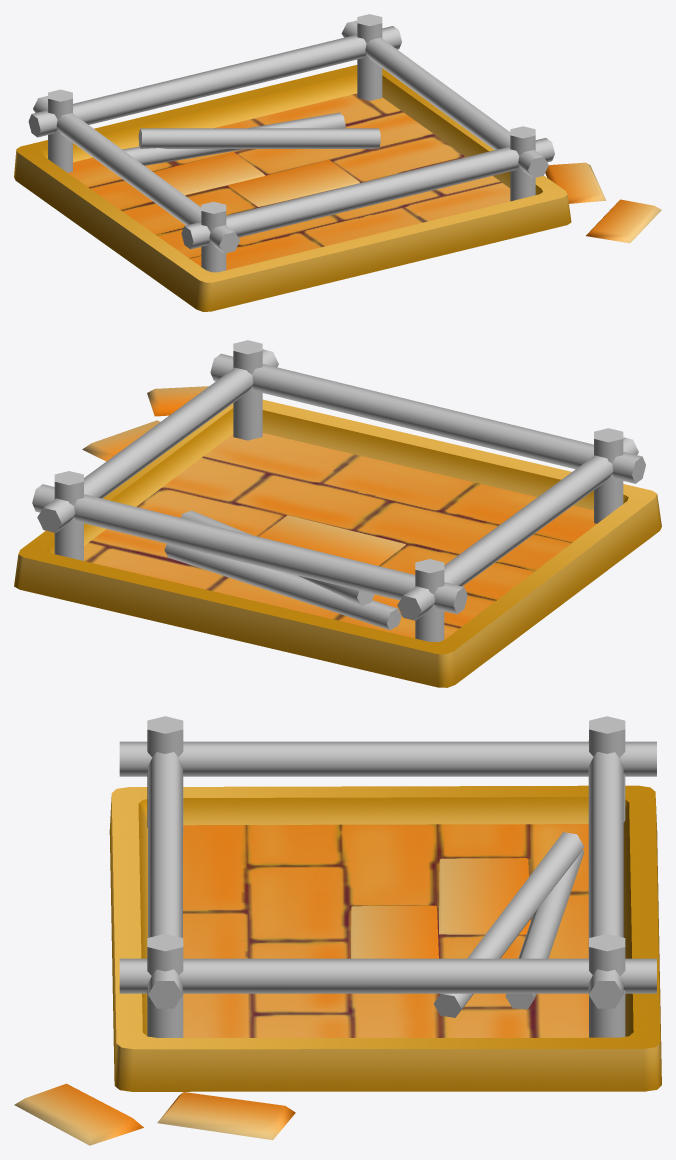
Rendered from ArabianHouse_S_11.fbx.
3 views of the same model, one above another, from view 1: azimuth 30°, elevation 25°; view 2: azimuth 150°, elevation 25°; view 3: azimuth 270°, elevation 25° (orthographic). The views are drawn at different scales.
Visible parts, largest first — view 1: ArabianHouse_S_11; view 2: ArabianHouse_S_11; view 3: ArabianHouse_S_11.
Part boxes in pixels (left/top/right/bottom): ArabianHouse_S_11: left=14, top=14, right=661, bottom=311; ArabianHouse_S_11: left=14, top=340, right=661, bottom=687; ArabianHouse_S_11: left=14, top=716, right=661, bottom=1145.
Bounding box in the file's own units: 6.72 × 1.24 × 5.75.
